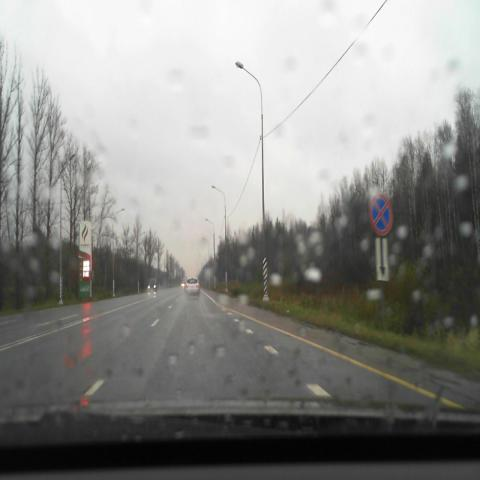8_2_3: (375, 237, 389, 281)
